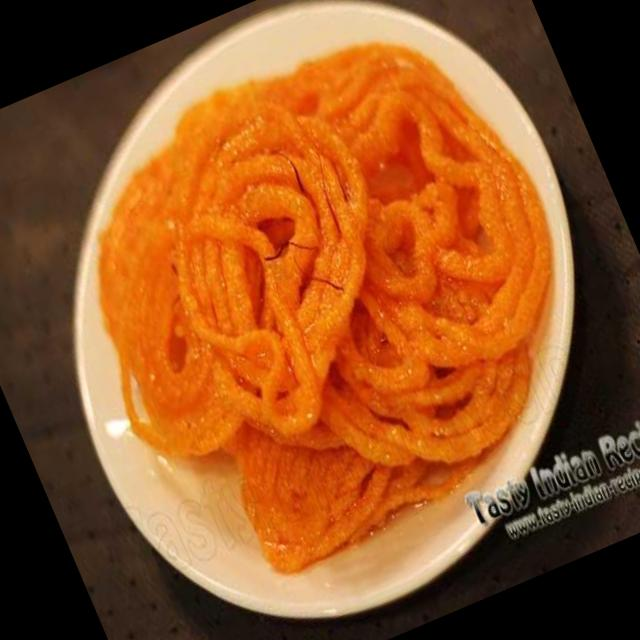jalebi: (44, 3, 634, 584)
